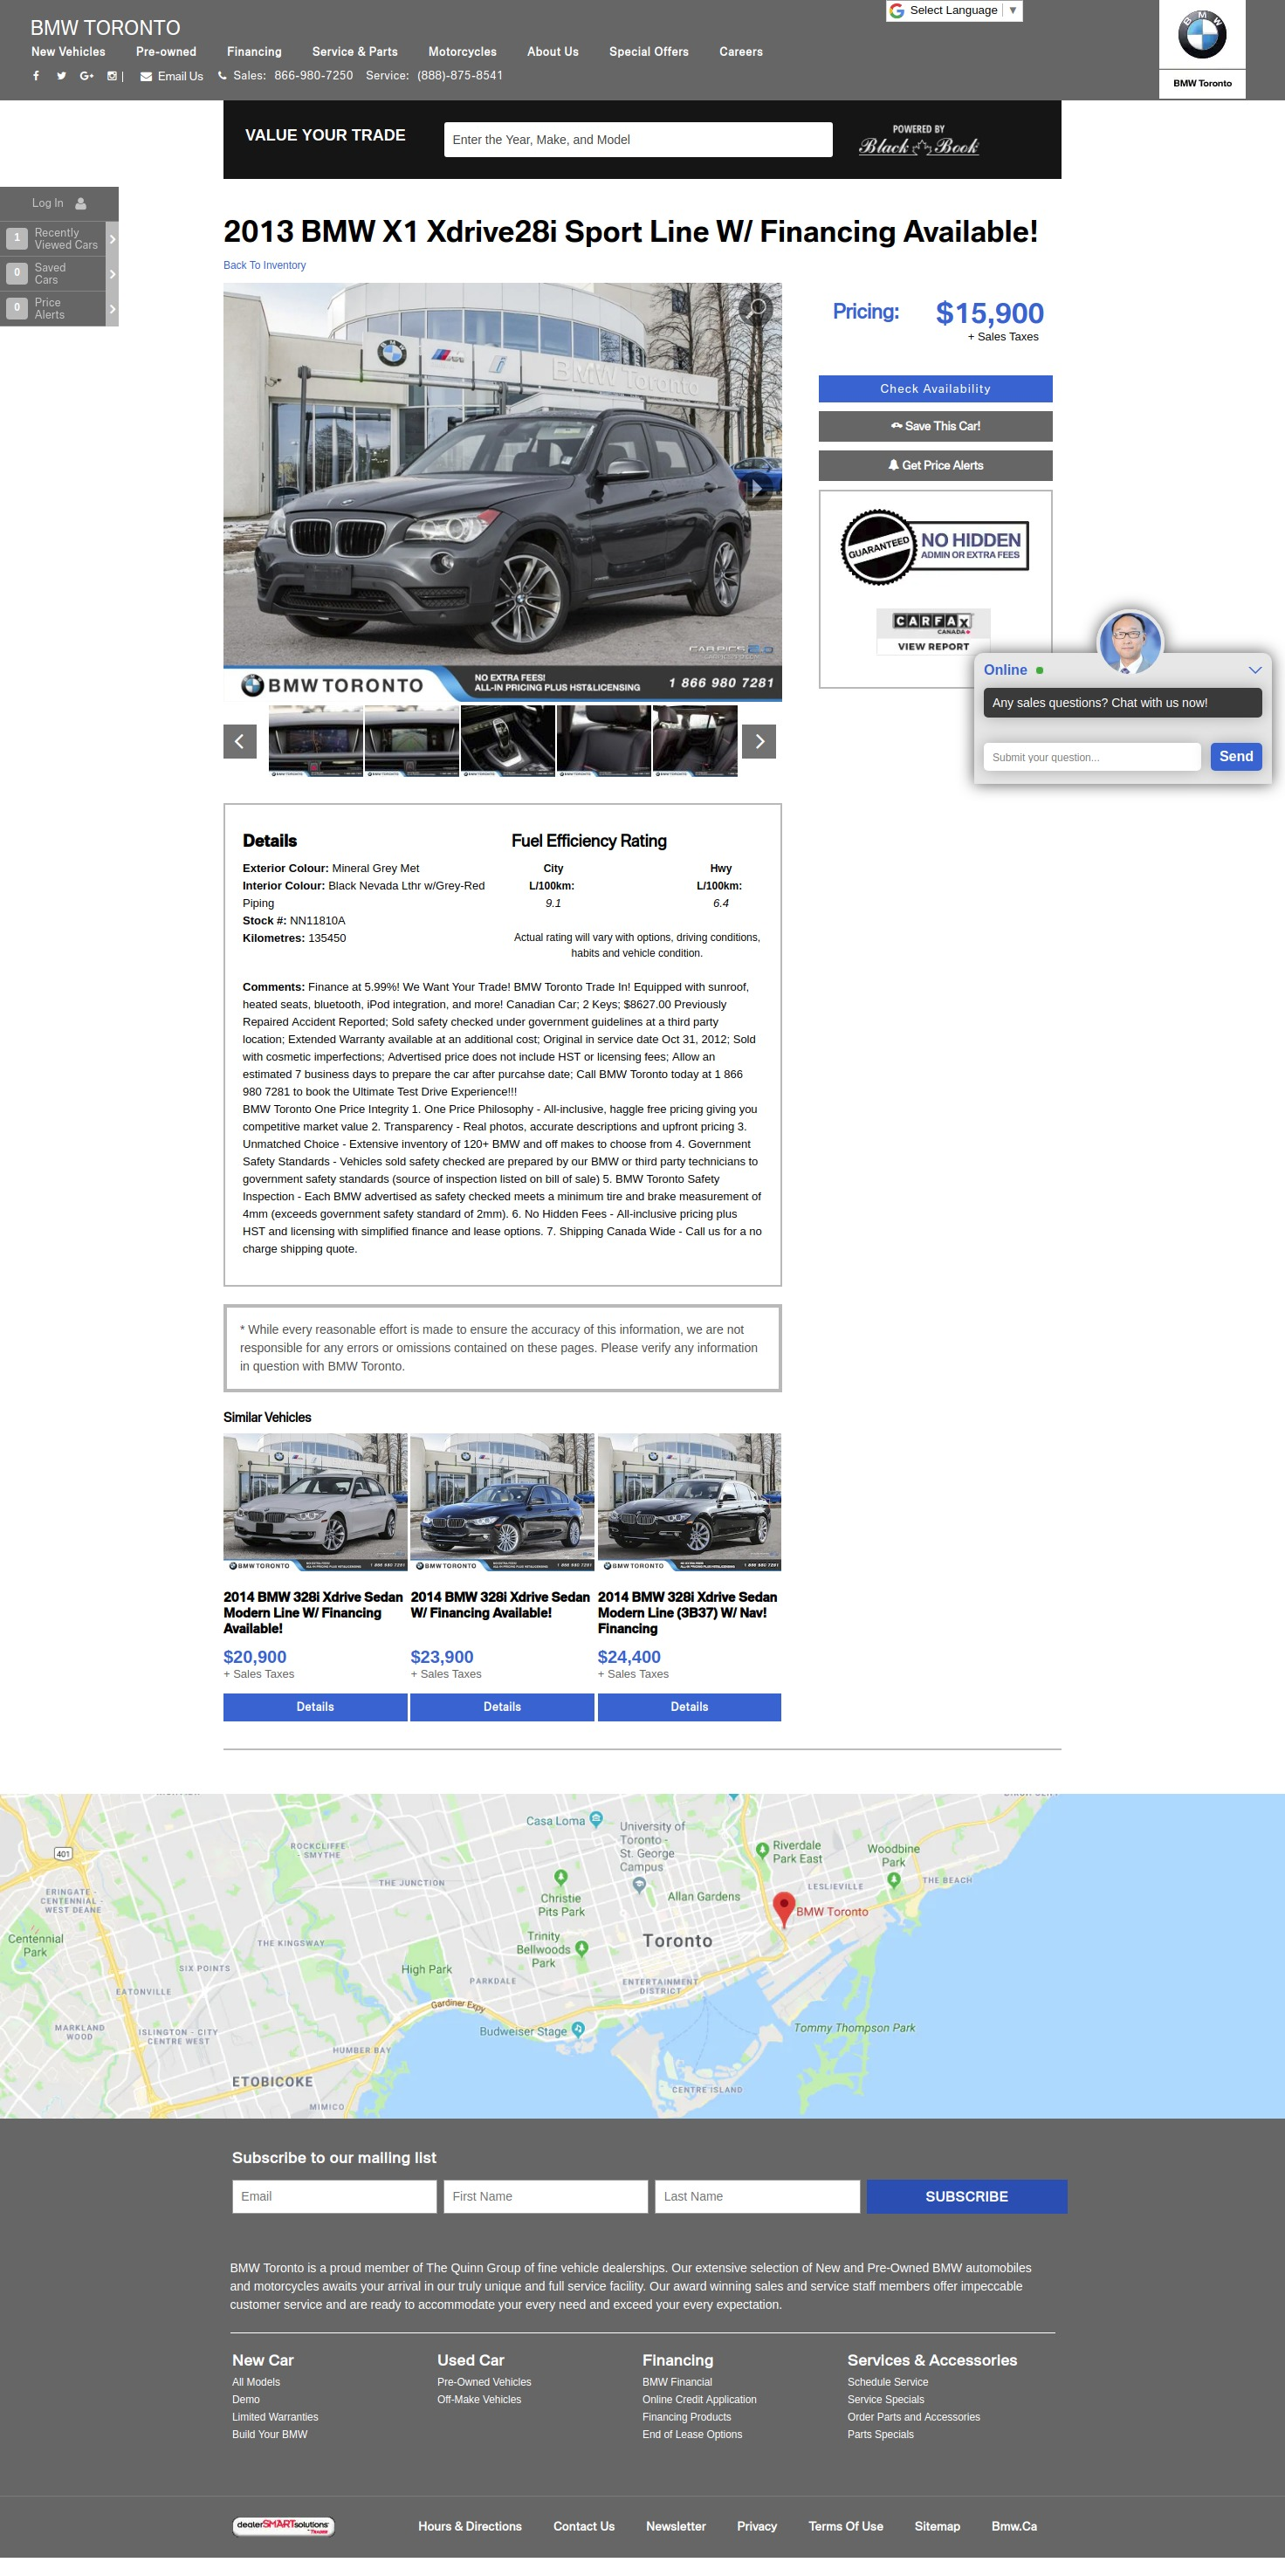car: (743, 723, 777, 761)
